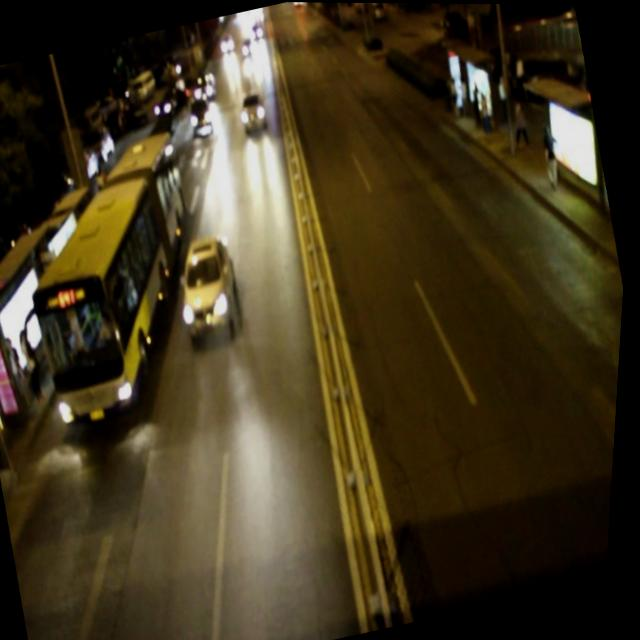car: (172, 235, 252, 338), (236, 88, 270, 130), (190, 70, 220, 104)
truck: (185, 91, 215, 130)
van: (6, 134, 229, 420)
